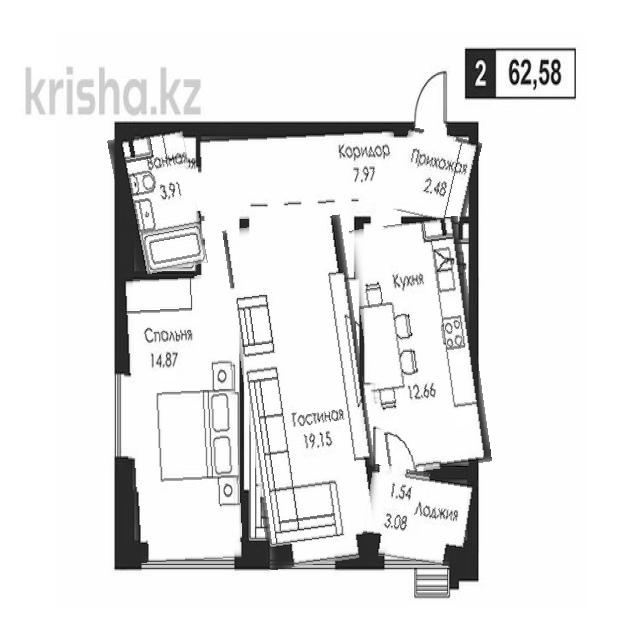balcony: (363, 468, 475, 566)
bathroom: (114, 129, 202, 274)
hallway: (197, 127, 396, 219), (395, 129, 478, 222)
kitchen: (358, 219, 484, 473)
living_room: (234, 218, 375, 567), (122, 276, 240, 562)
